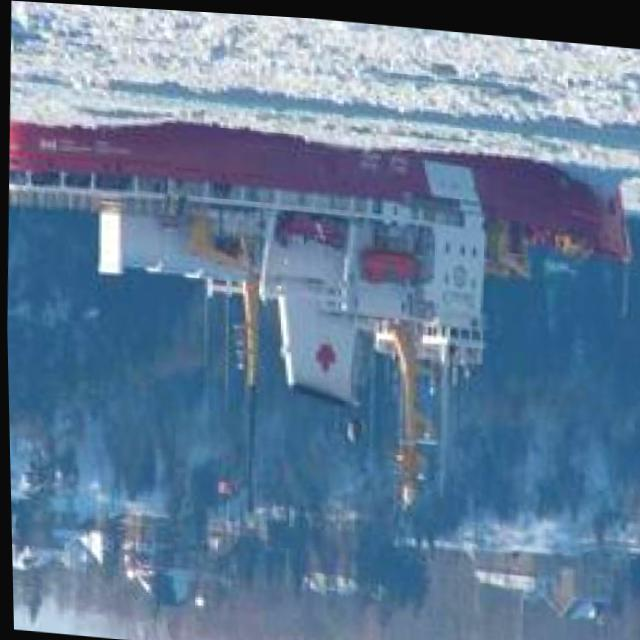ship2: (7, 117, 633, 504)
